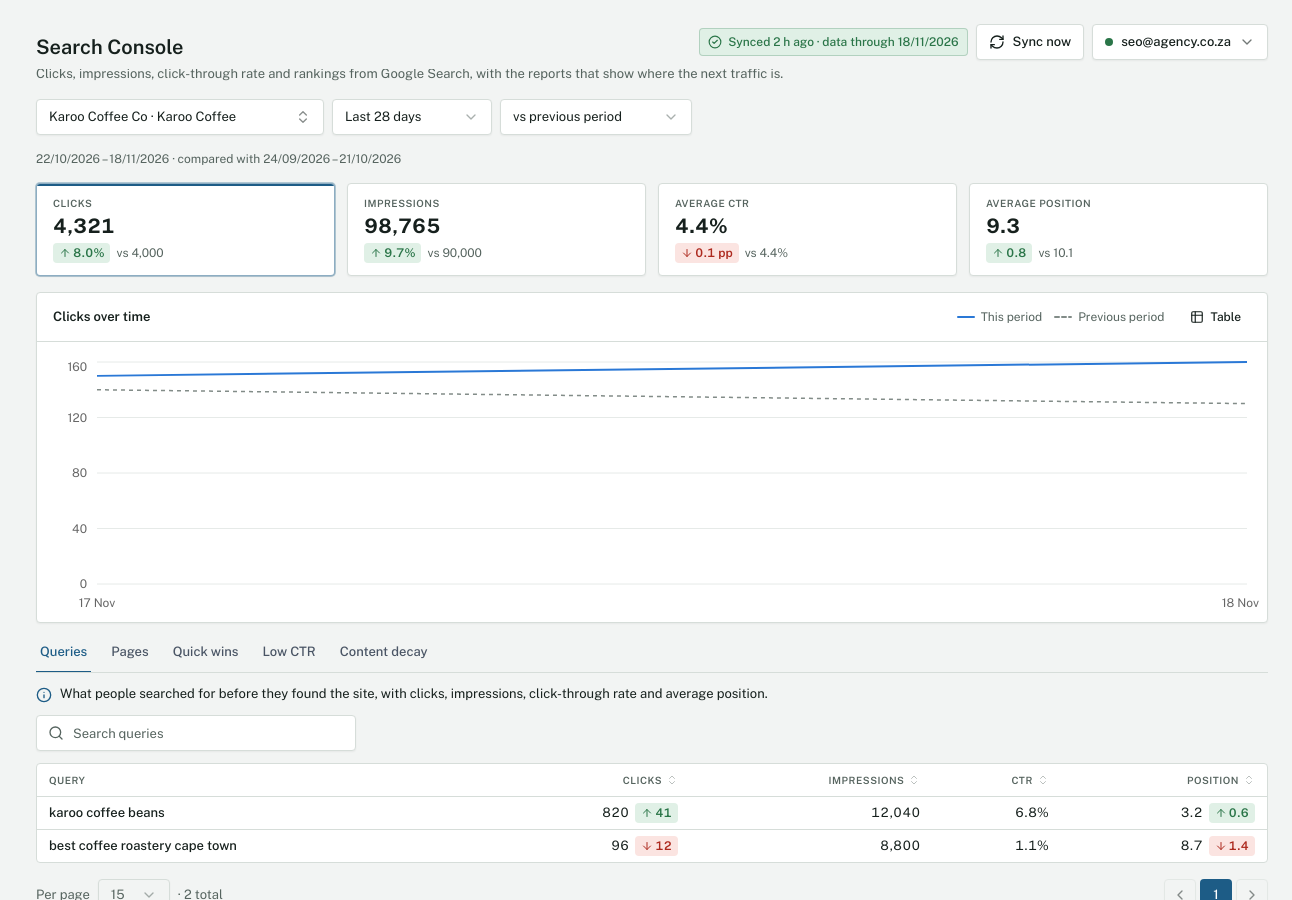
Test: SearchConsolePage › reports › puts sort and search in the URL and sends them to the API
Click the button "Impressions": [874, 780] box top-left (825, 773), bottom-right (924, 787)
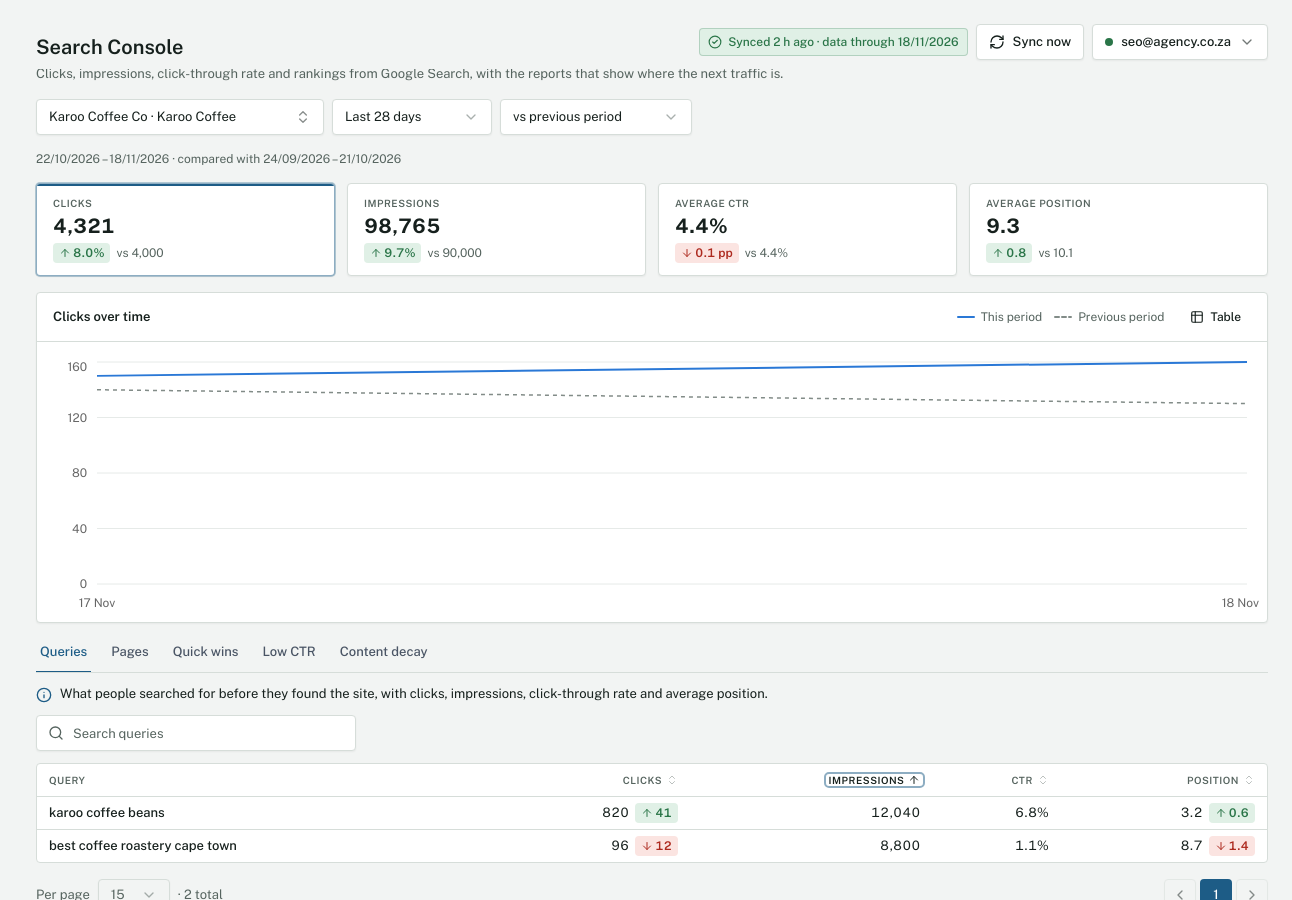
In the search field labelled "Search queries": [196, 733] box top-left (36, 715), bottom-right (356, 751), type "roastery"
(page scrolled)
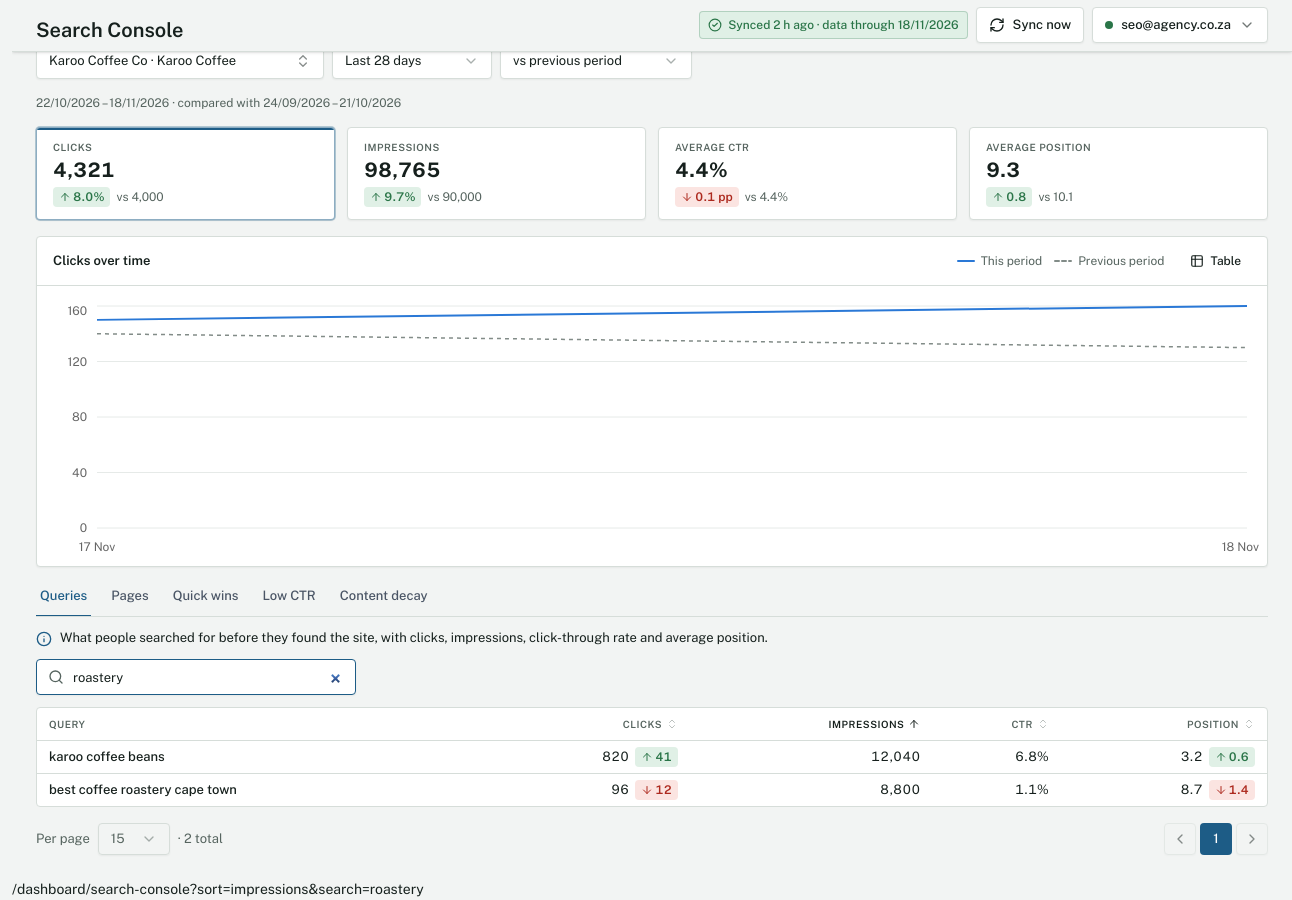
Now the text with test id "location" shows "search=roastery", box top-left (12, 880), bottom-right (424, 896)
